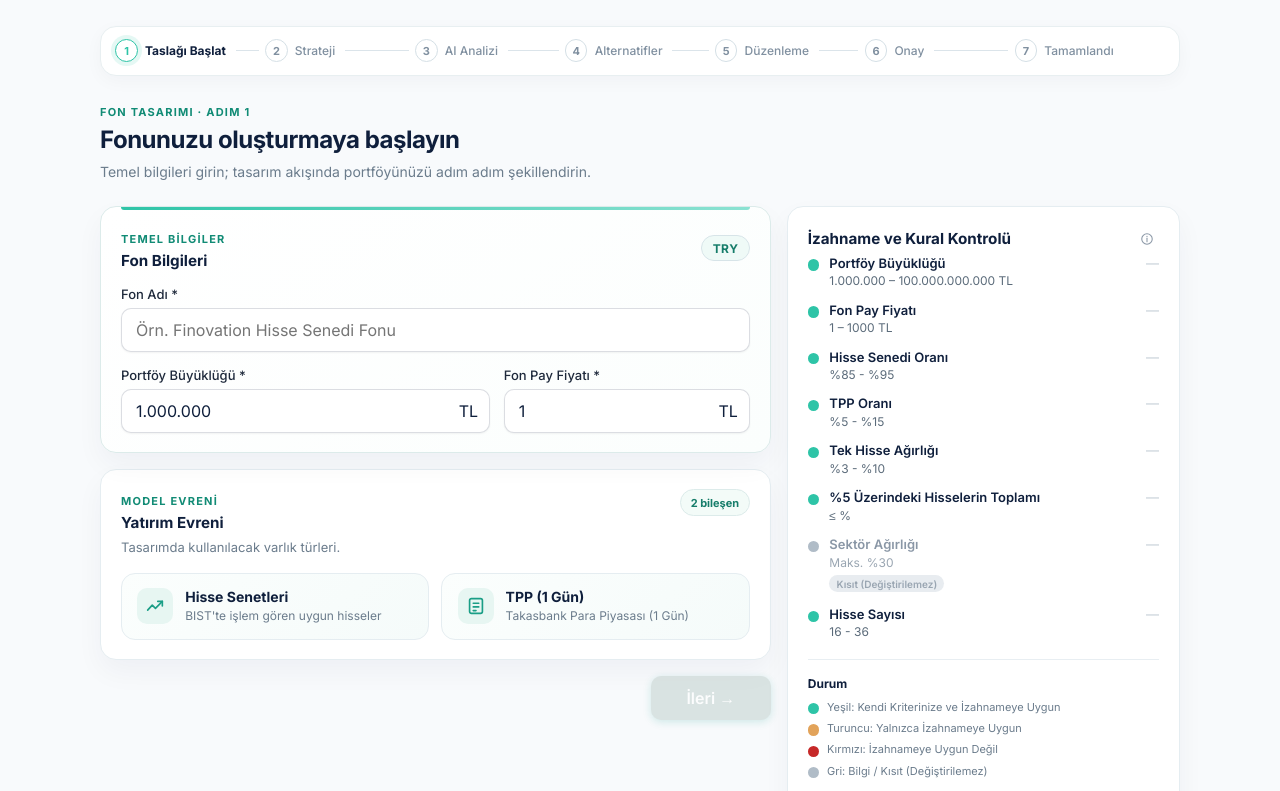
StartFundDraftPage › geçersiz portföy büyüklüğünde hata ve aralık metni gösterir
Type "100" into the field labelled "Portföy Büyüklüğü *" at (306, 411), box [121,389,490,433]
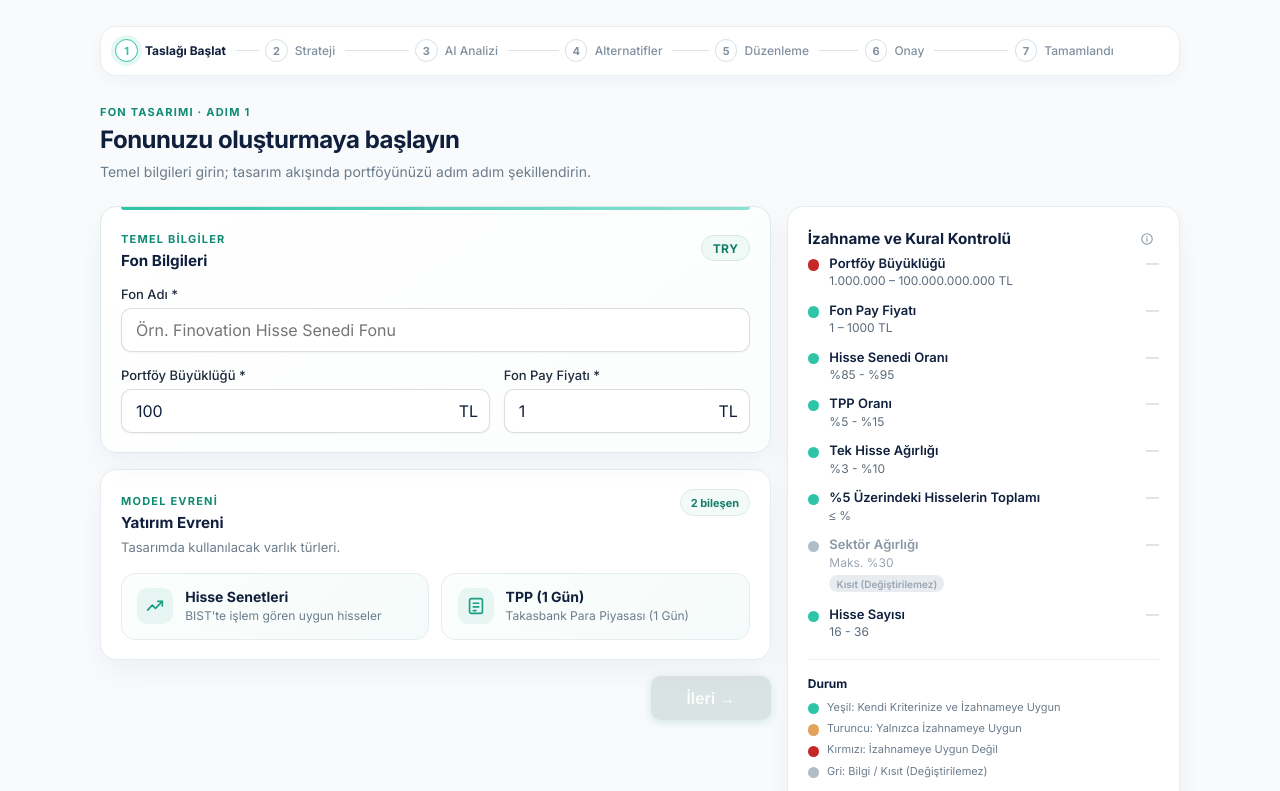
Leave the field labelled "Portföy Büyüklüğü *", box [121,389,490,433]
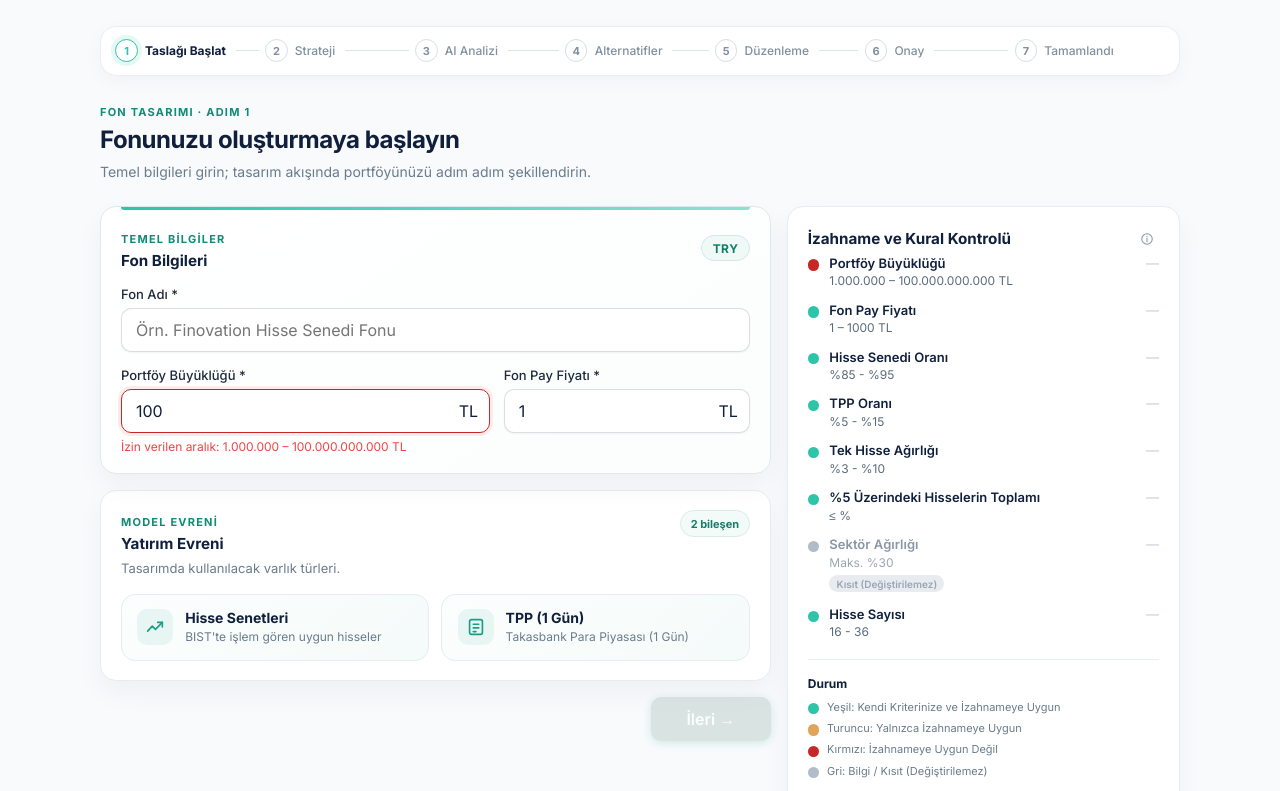
Expected: the text "İzin verilen aralık: 1.000.000 – 100.000.000.000 TL" is shown, [121,439,406,454]
